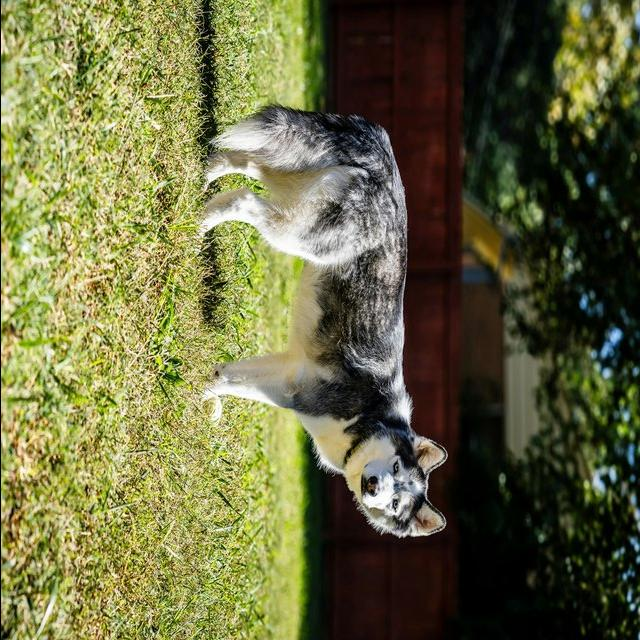husky: (193, 102, 449, 538)
